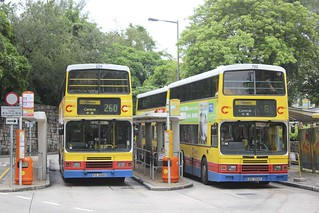bus: (135, 62, 290, 185), (58, 63, 134, 183)
